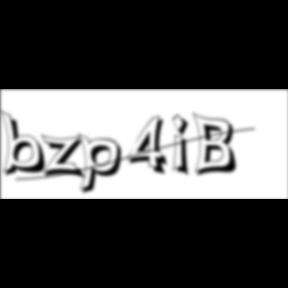4: (128, 115, 174, 179)
B: (193, 111, 243, 179)
b: (0, 109, 54, 179)
i: (172, 112, 196, 180)
p: (79, 132, 129, 198)
z: (40, 134, 90, 182)
